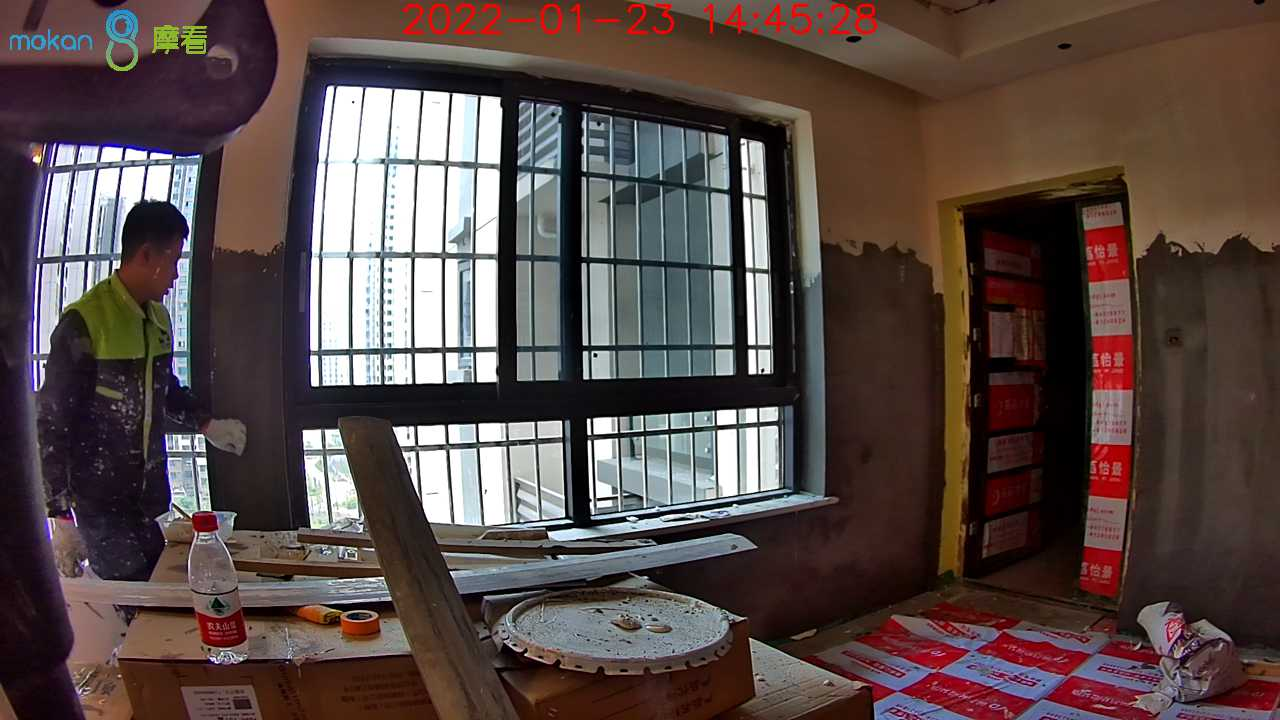people: (46, 199, 249, 575)
window: (305, 78, 806, 541)
